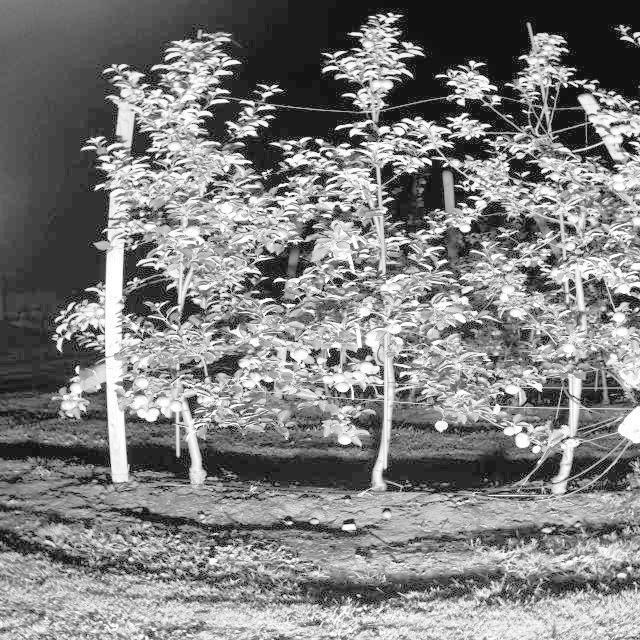Tree: (299, 13, 478, 494), (130, 36, 280, 486), (497, 37, 624, 499)
